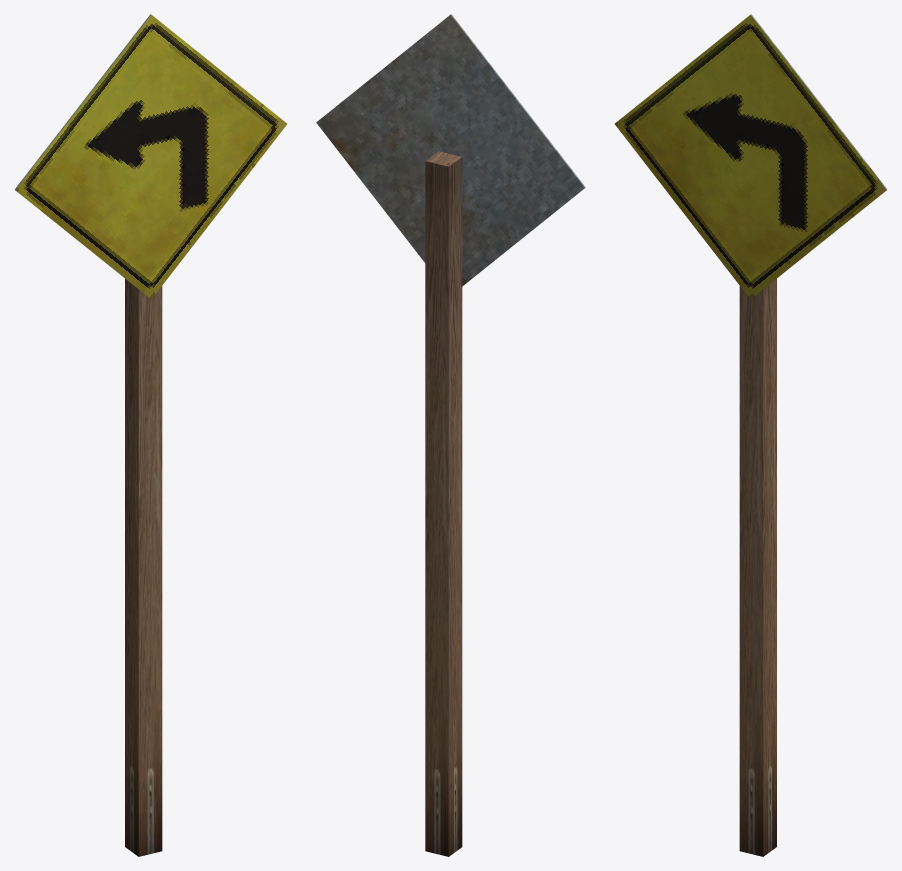
Rendered from rightturnahead_wood.fbx.
3 renders of one model, left to right at view 1: azimuth 30°, elevation 25°; view 2: azimuth 150°, elevation 25°; view 3: azimuth 330°, elevation 25°, orthographic.
Parts seen in each view (by area): view 1: mesh_1, mesh_2; view 2: mesh_0, mesh_2; view 3: mesh_1, mesh_2.
Boxes of the visible parts, x1,y1,x2,y2 form: mesh_1: [15, 15, 287, 299]; mesh_2: [125, 279, 162, 856]; mesh_0: [316, 14, 585, 286]; mesh_2: [425, 151, 462, 856]; mesh_1: [614, 15, 886, 299]; mesh_2: [739, 279, 776, 856].
Bounding box in the file's own units: 107 × 316 × 9.9.
3 materials, 3 textured.
